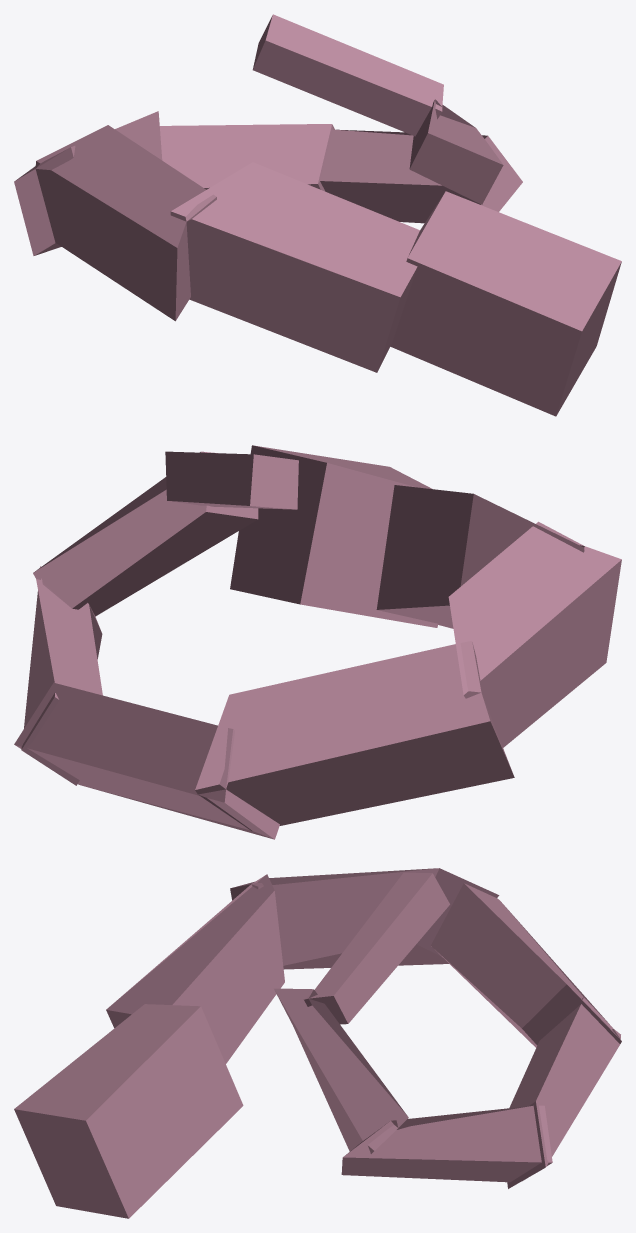
The model's file is rat_tail.glb.
3 renders of one model, top to bottom at view 1: azimuth 30°, elevation 25°; view 2: azimuth 150°, elevation 25°; view 3: azimuth 270°, elevation 25°, orthographic. The views are drawn at different scales.
Visible parts, largest first — view 1: rat_lowpoly; view 2: rat_lowpoly; view 3: rat_lowpoly.
Boxes of the visible parts, <box> form: rat_lowpoly: <box>14,14,621,416</box>; rat_lowpoly: <box>14,445,621,839</box>; rat_lowpoly: <box>14,868,621,1218</box>.
Bounding box in the file's own units: 0.0667 × 0.0425 × 0.0817.
